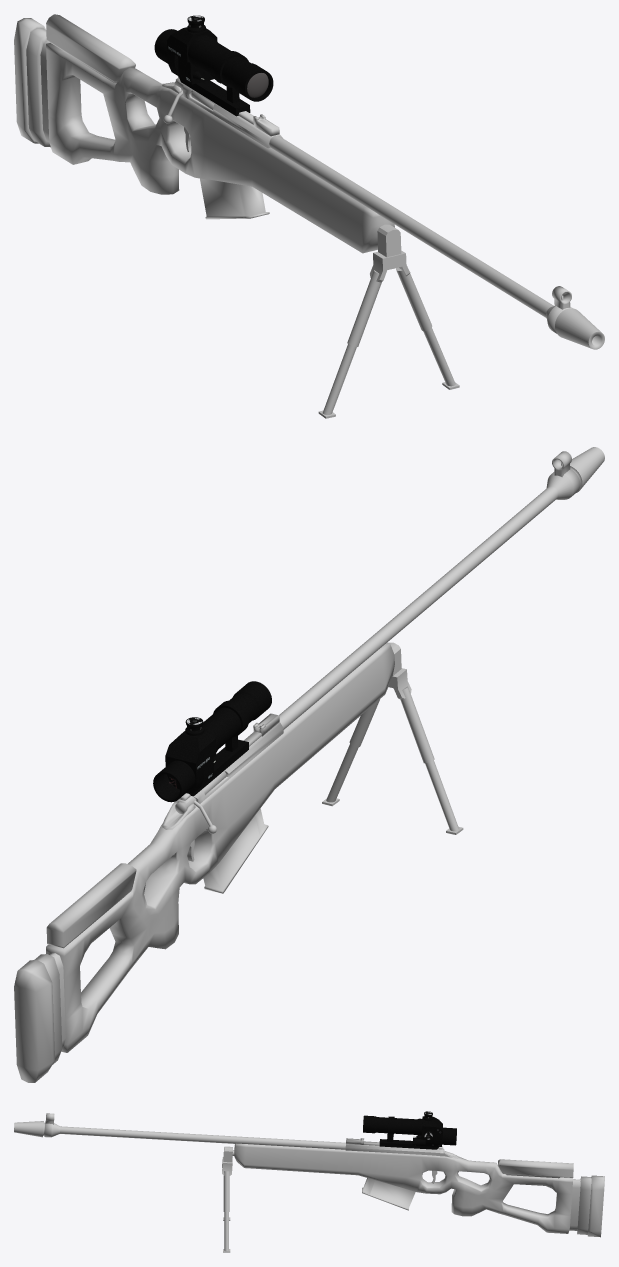
3 renders of one model, top to bottom at view 1: azimuth 30°, elevation 25°; view 2: azimuth 150°, elevation 25°; view 3: azimuth 270°, elevation 25°, orthographic. The views are drawn at different scales.
Visible parts, largest first — view 1: SV98_11, Scope_9, Magazine_5, Bipod Leg Right_1, Bipod Leg Left_0, Bipod_2; view 2: SV98_11, Scope_9, Magazine_5, Bipod Leg Right_1, Bipod Leg Left_0; view 3: SV98_11, Scope_9, Magazine_5, Bipod Leg Left_0, Bipod_2.
Part boxes in pixels (bbox=[...]): SV98_11: bbox=[14, 14, 604, 349]; Scope_9: bbox=[154, 15, 273, 116]; Magazine_5: bbox=[200, 178, 269, 219]; Bipod Leg Right_1: bbox=[318, 270, 381, 418]; Bipod Leg Left_0: bbox=[396, 265, 459, 389]; Bipod_2: bbox=[370, 224, 410, 282]; SV98_11: bbox=[14, 447, 604, 1082]; Scope_9: bbox=[153, 681, 271, 802]; Magazine_5: bbox=[203, 808, 268, 893]; Bipod Leg Right_1: bbox=[400, 686, 463, 834]; Bipod Leg Left_0: bbox=[322, 699, 379, 806]; SV98_11: bbox=[14, 1113, 604, 1237]; Scope_9: bbox=[363, 1111, 456, 1149]; Magazine_5: bbox=[362, 1178, 415, 1210]; Bipod Leg Left_0: bbox=[223, 1171, 230, 1252]; Bipod_2: bbox=[222, 1146, 232, 1175].
Size of what is drawn, in the model's own units: 1.3 by 2.23 by 9.65.
